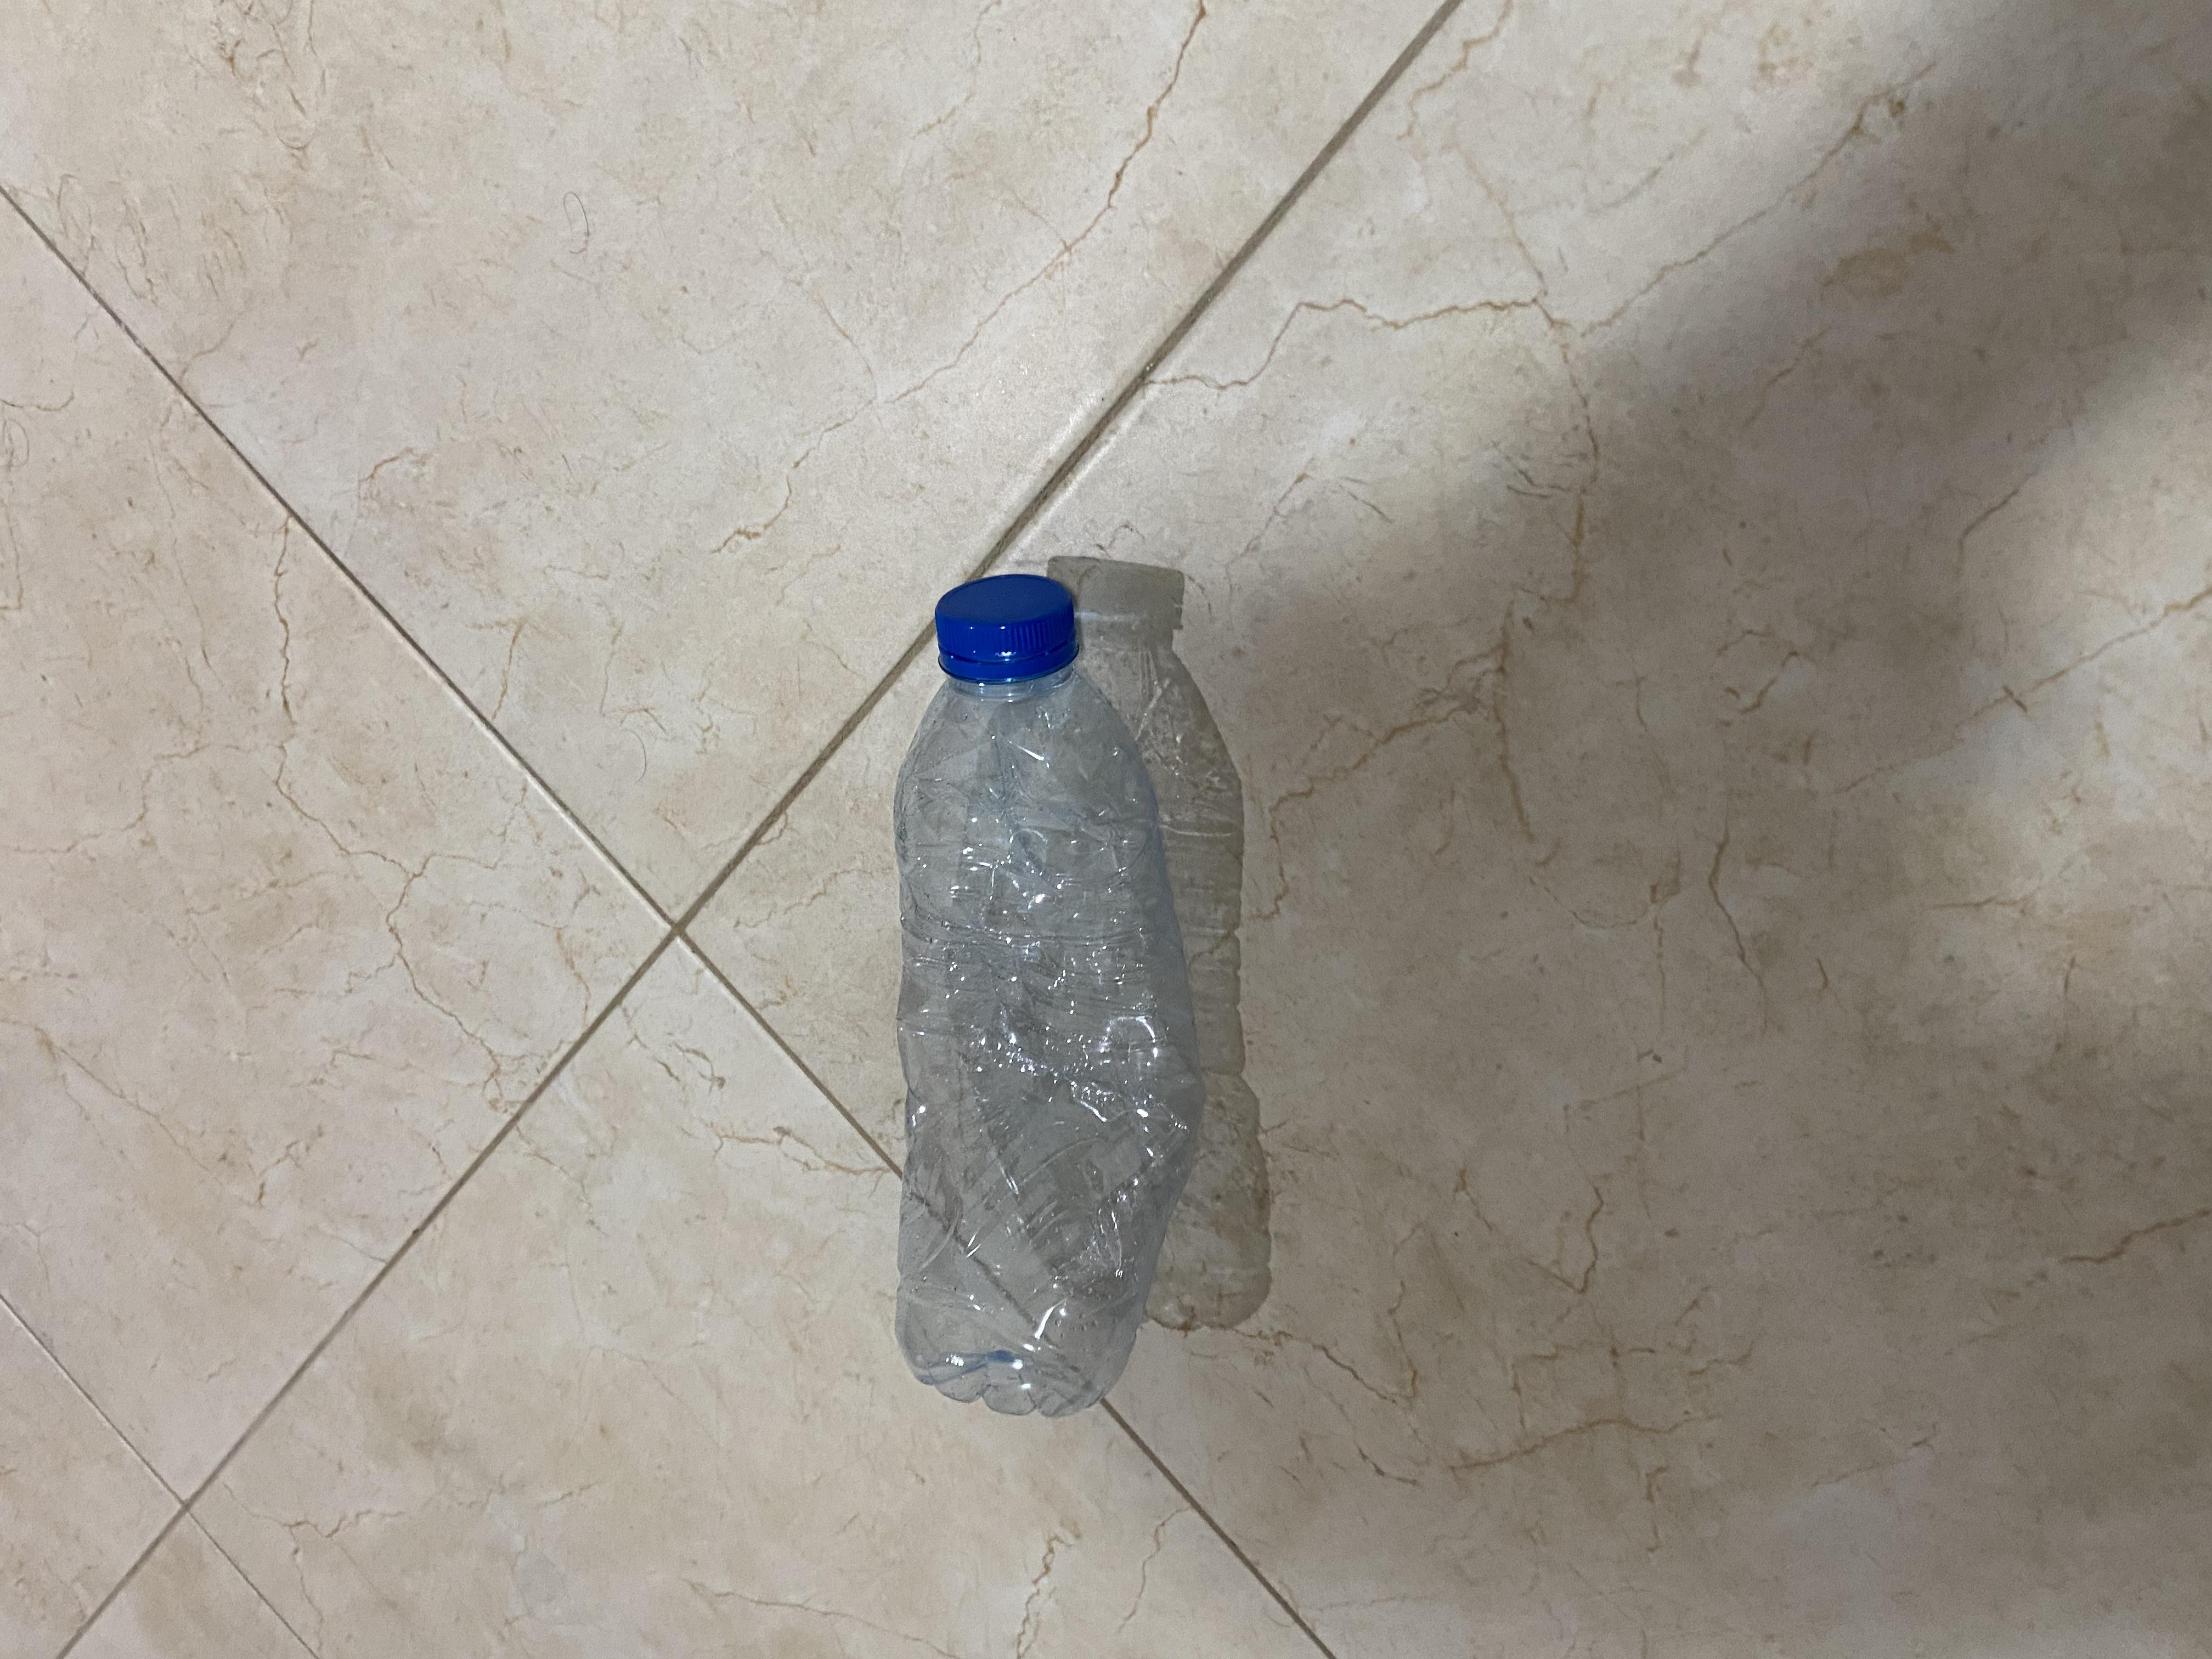bottle: (890, 566, 1211, 1419)
